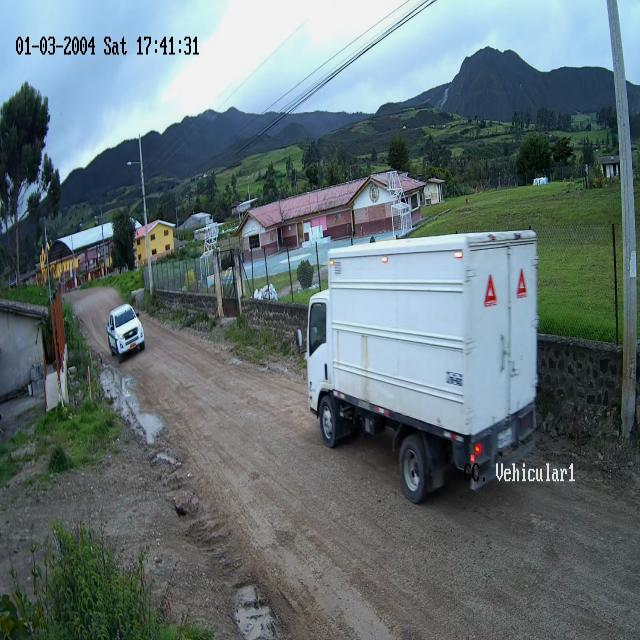CMT: (104, 304, 146, 364)
TRUCK: (305, 233, 539, 504)
